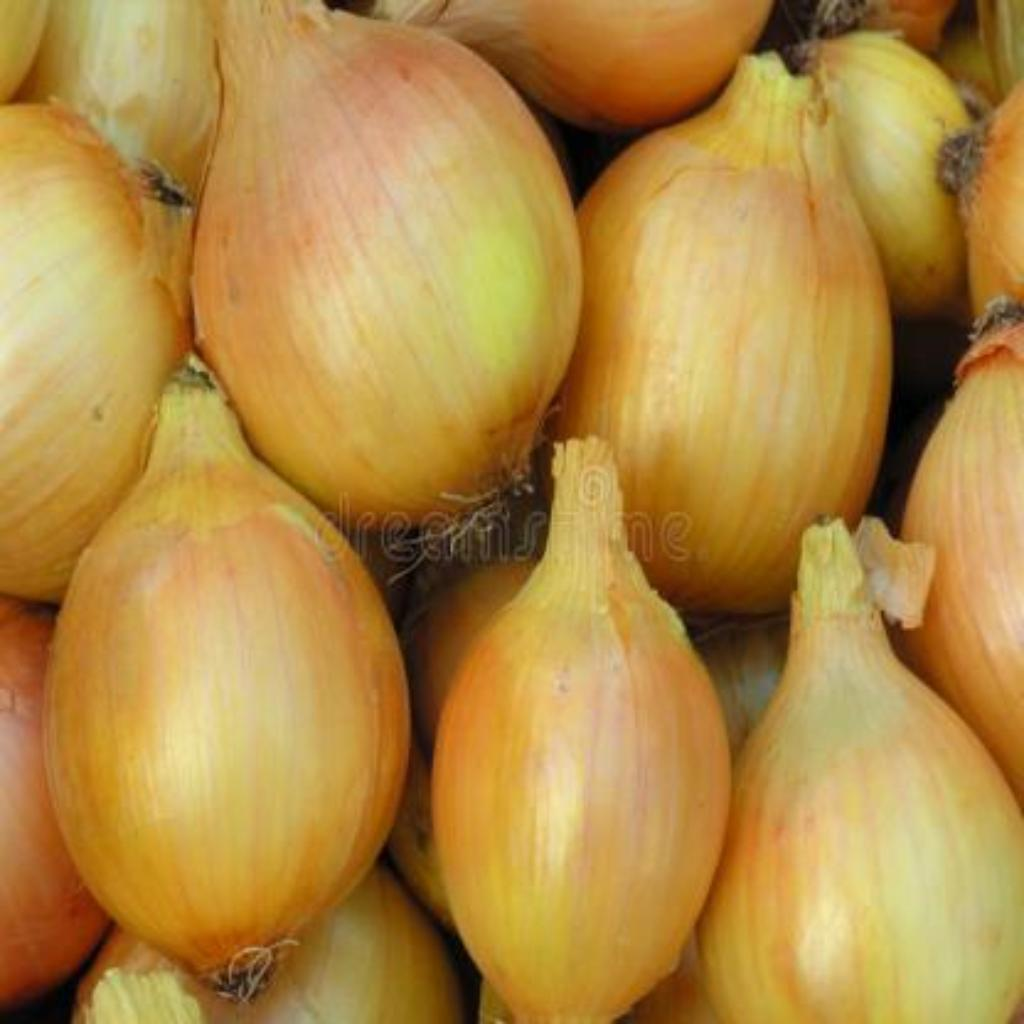Onion: (47, 369, 409, 975), (194, 0, 583, 518), (556, 54, 894, 614), (433, 438, 731, 1023), (702, 524, 1024, 1024), (0, 103, 185, 602), (71, 869, 465, 1023), (903, 330, 1024, 804), (359, 1, 775, 129), (0, 598, 108, 1010)
